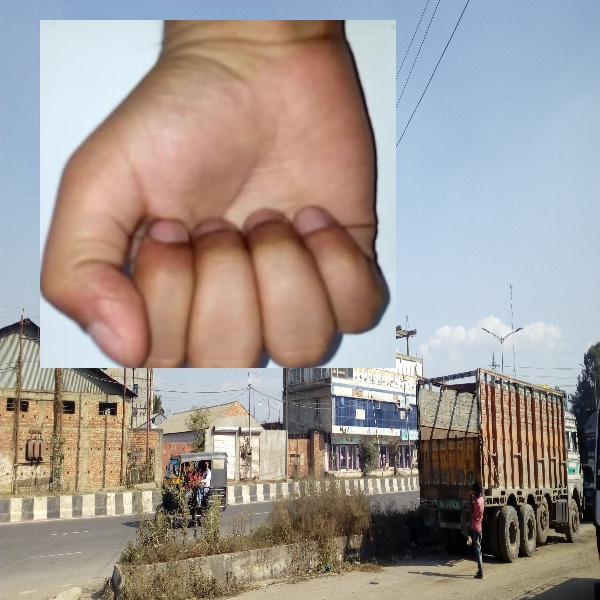A: (40, 20, 396, 368)
